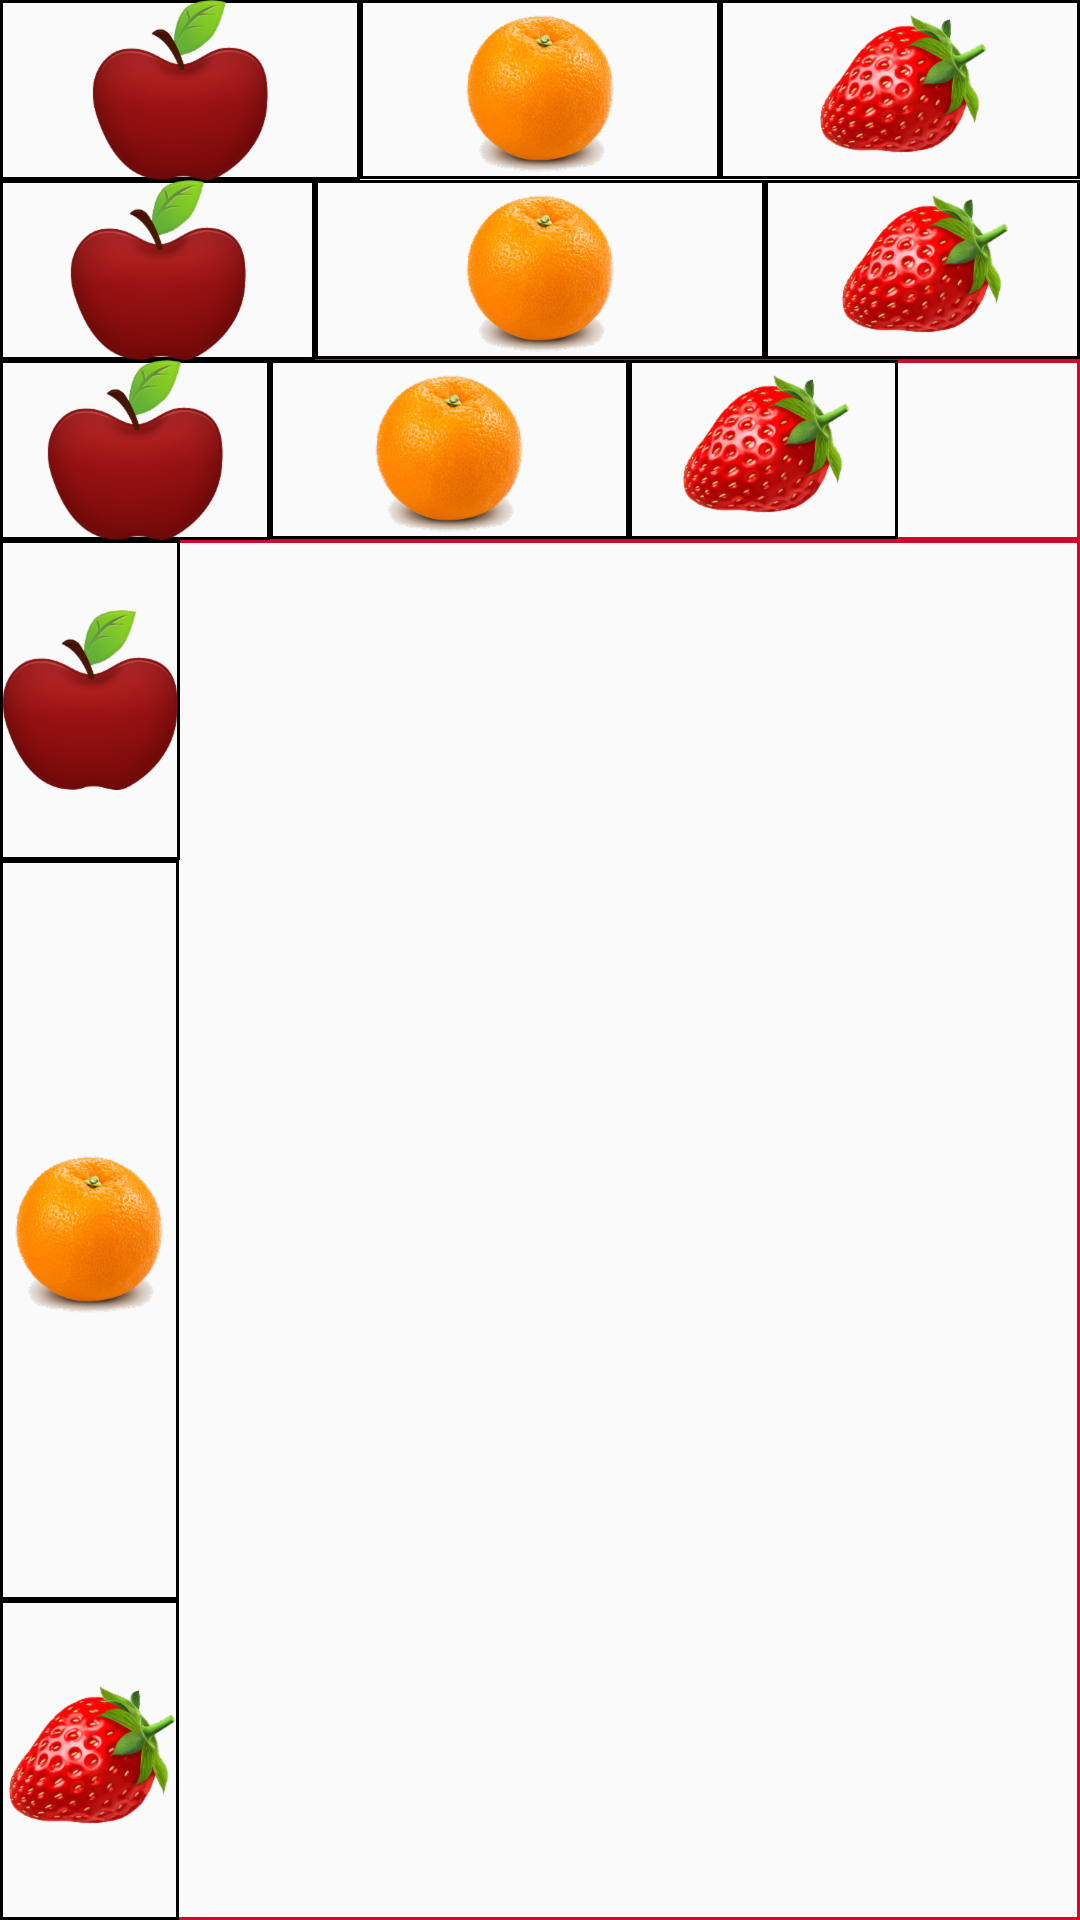

Named icons in this screenshot (1080 × 1920) and their bounding boxes, (x1,y1,x2,y2):
apple: (3,0,357,180), (3,180,312,360), (3,360,267,540), (0,540,180,860)
strawberry: (723,3,1077,176), (768,183,1077,356), (632,363,895,536), (9,1686,175,1824)
